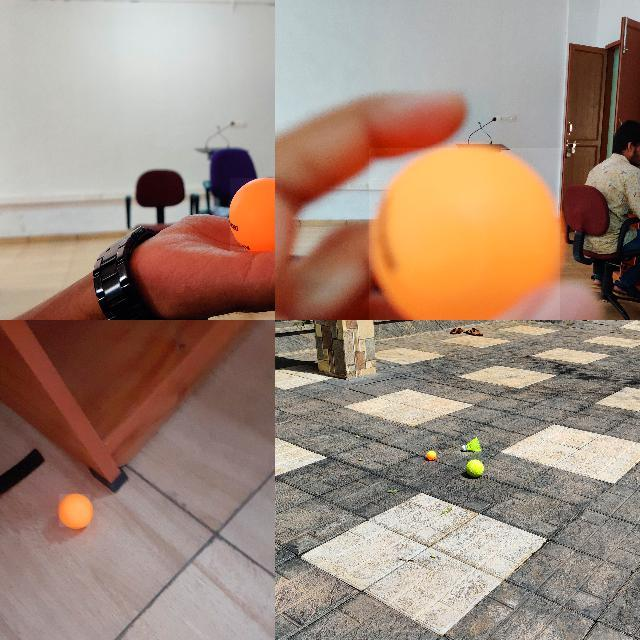ping-pong-ball: (369, 147, 562, 319), (230, 178, 274, 252), (59, 494, 91, 528), (426, 450, 436, 458)
